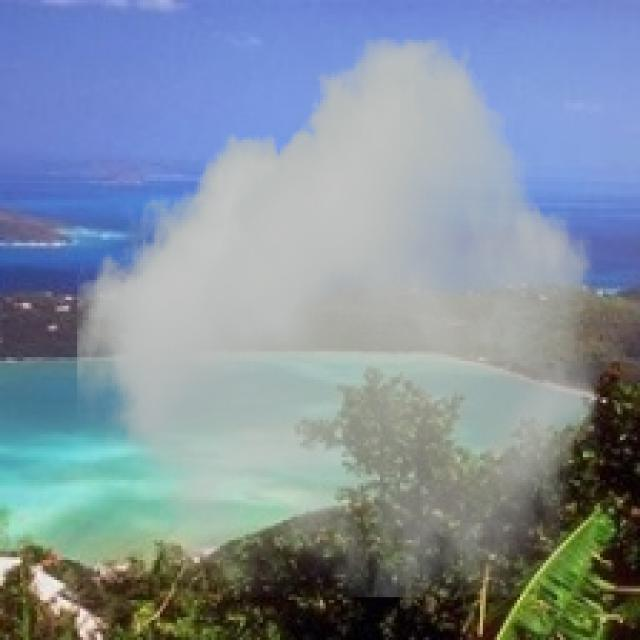smoke: (77, 37, 600, 597)
